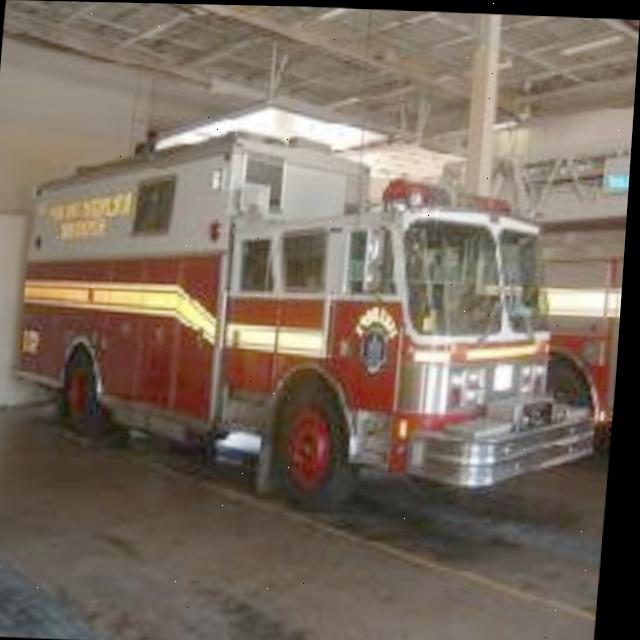emergency: (13, 111, 591, 490)
